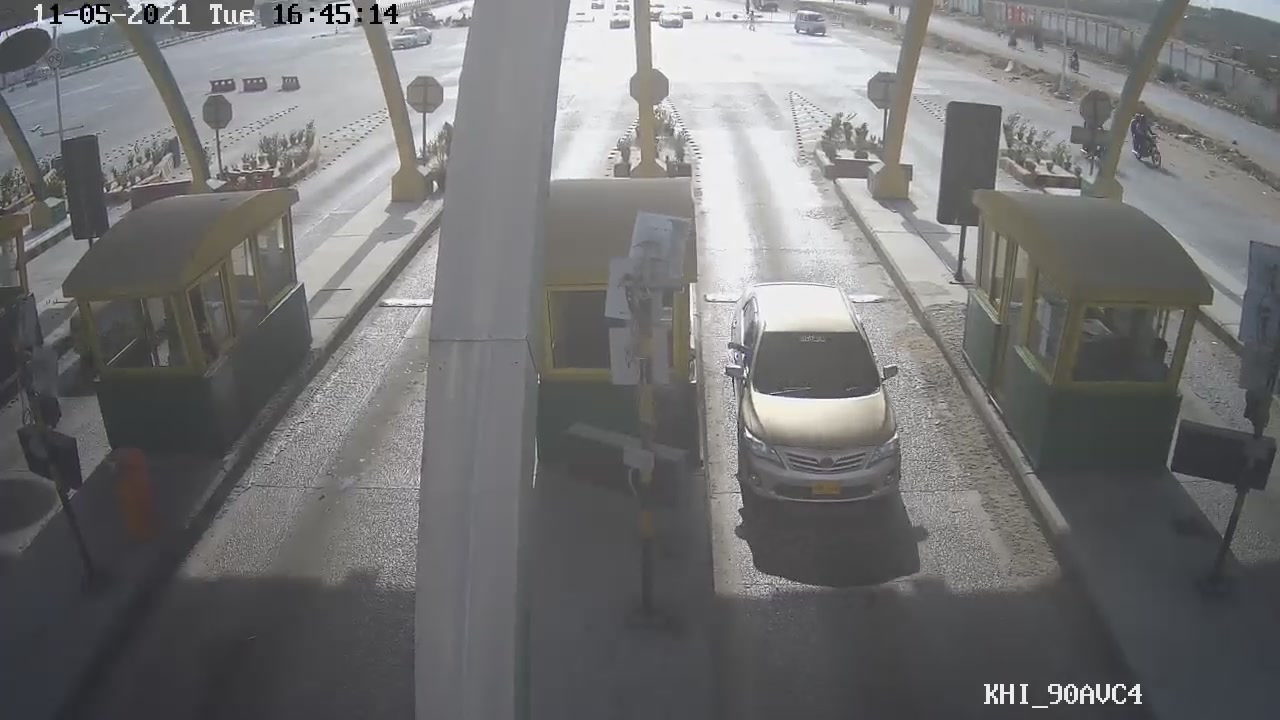F1: (715, 281, 912, 510)
